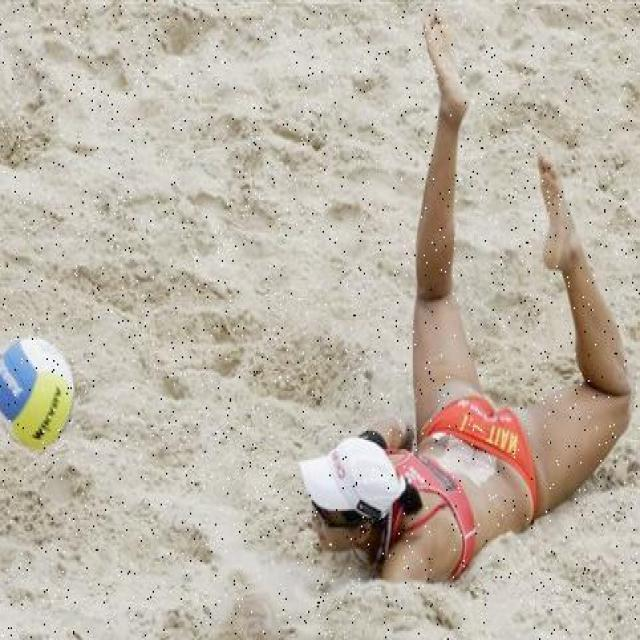fall: (312, 116, 617, 578)
